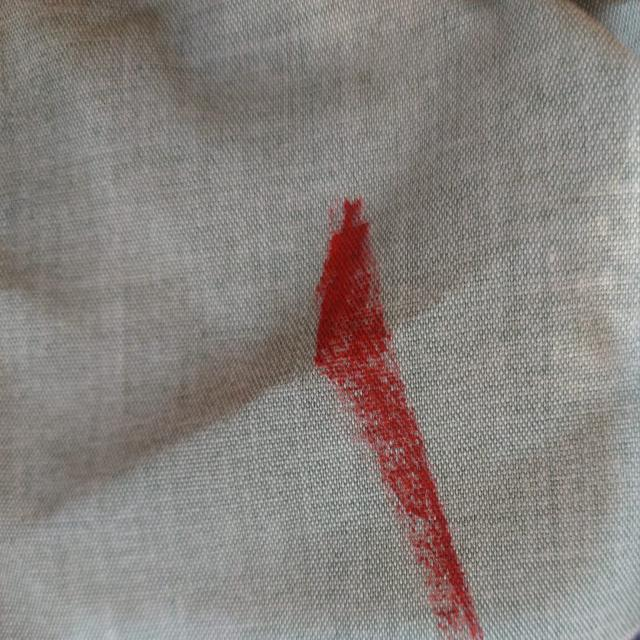Stain: (309, 191, 487, 640)
